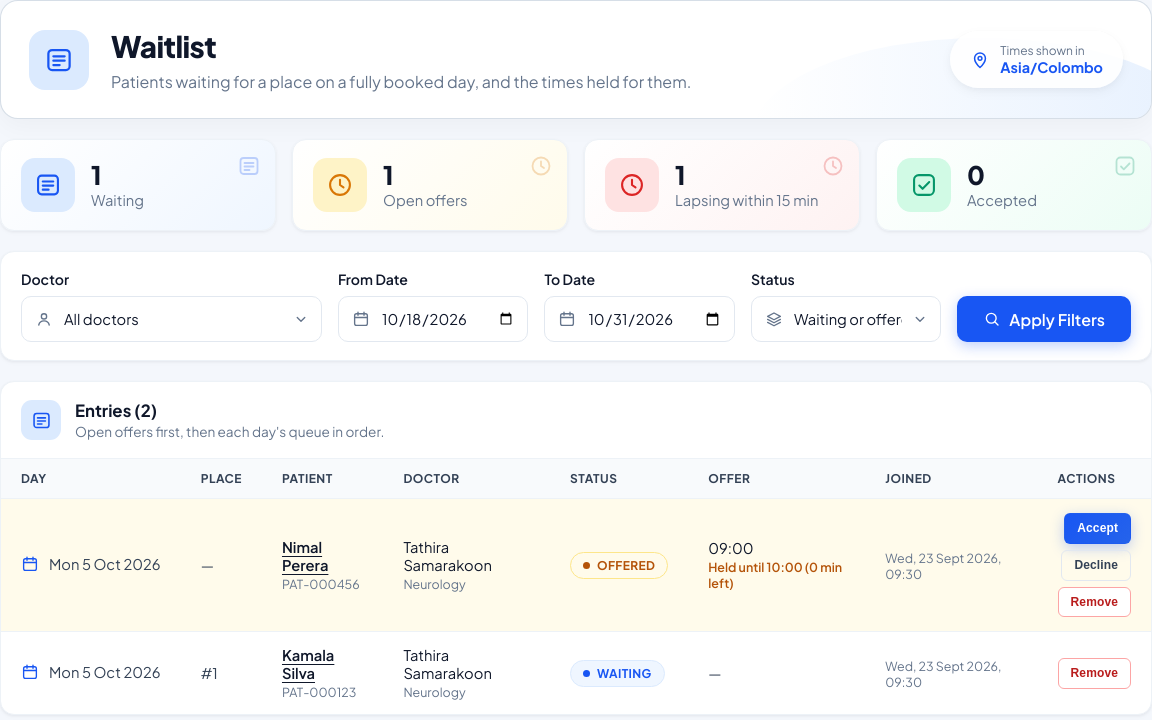
it: WaitlistPage (SCRUM-37) › declines an offer on the patient's behalf
Expected: the table with test id "waitlist-table" is shown, [1,459,1151,714]
Click the button with aria-label "Decline the offer for Nimal Perera". click: point(1096, 565)
box: [1062,550,1131,581]
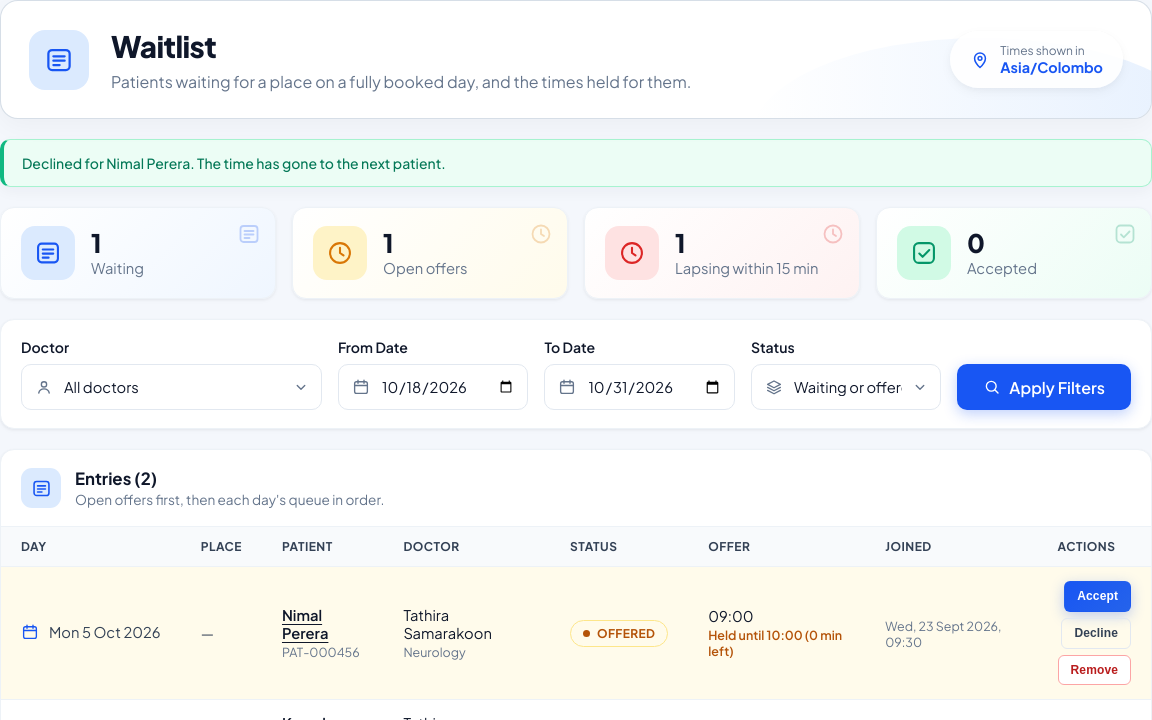
Now the message shows "gone to the next patient", box [22,154,446,172]
